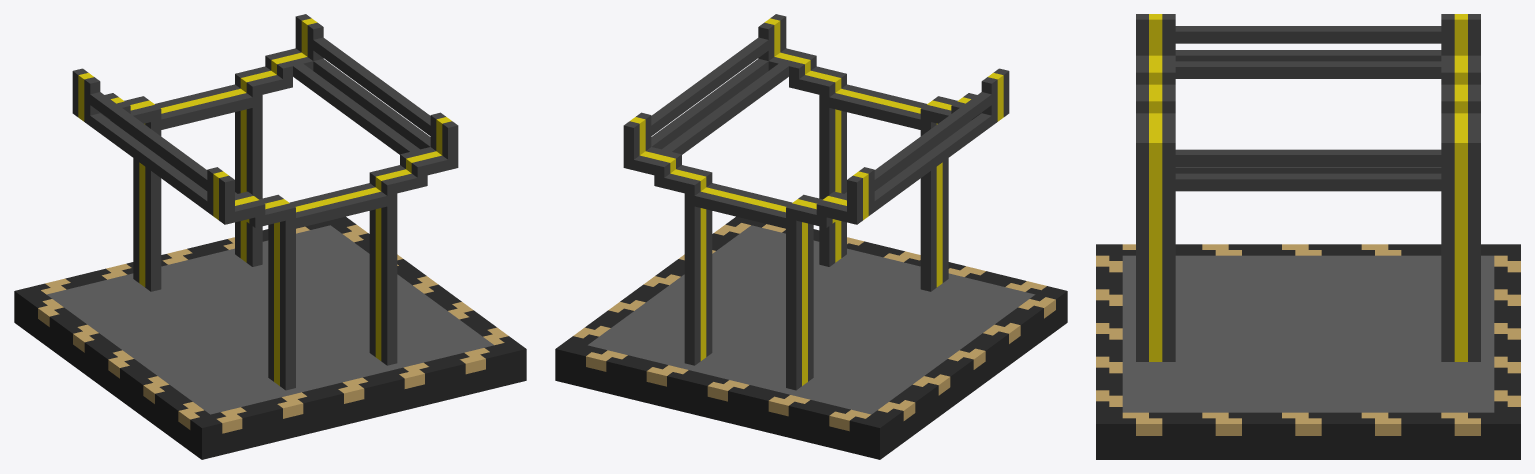
The model's file is _g_catMachine-1.obj.
3 renders of one model, left to right at view 1: azimuth 30°, elevation 25°; view 2: azimuth 150°, elevation 25°; view 3: azimuth 270°, elevation 25°, orthographic. The views are drawn at different scales.
Size of the model in its own units: 3.2 by 2.4 by 3.2.
